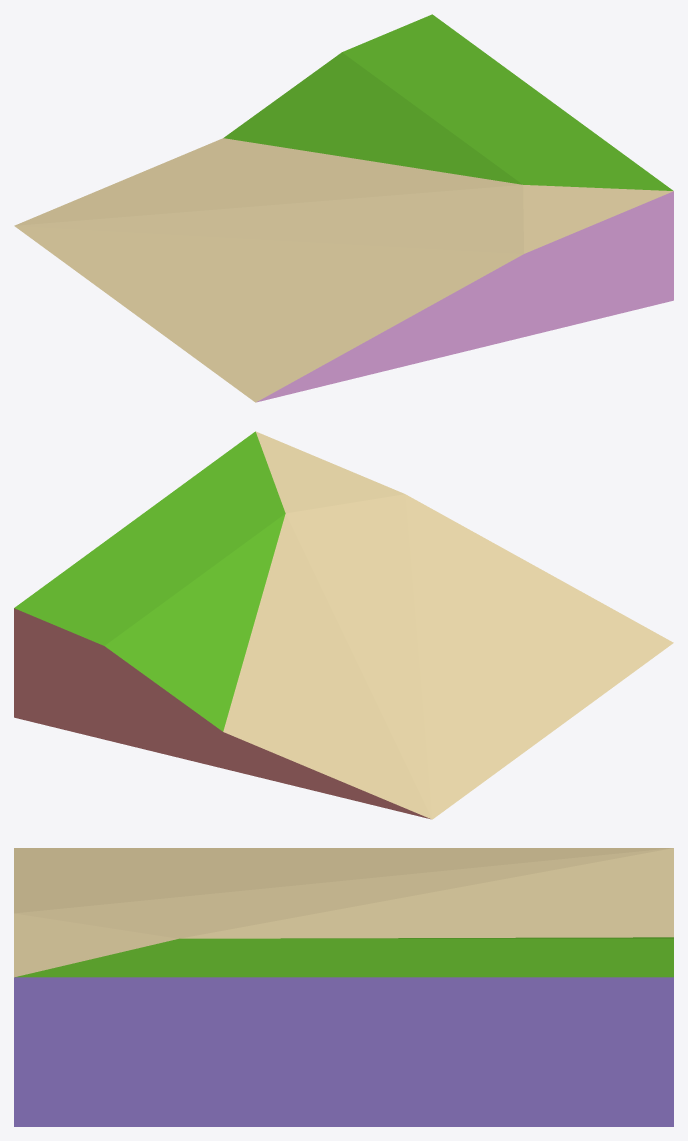
Rendered from Path_Terrain_Transition_Grass_Side_Straight_1x1.glb.
The picture shows the model from 3 angles, top to bottom: view 1: azimuth 30°, elevation 25°; view 2: azimuth 150°, elevation 25°; view 3: azimuth 270°, elevation 25°; orthographic projection. The views are drawn at different scales.
Visible parts, largest first — view 1: Path_Terrain_Transition_Grass_Side_Straight_1x1; view 2: Path_Terrain_Transition_Grass_Side_Straight_1x1; view 3: Path_Terrain_Transition_Grass_Side_Straight_1x1.
Boxes of the visible parts, x1,y1,x2,y2 form: Path_Terrain_Transition_Grass_Side_Straight_1x1: (14, 14, 673, 402); Path_Terrain_Transition_Grass_Side_Straight_1x1: (14, 431, 673, 819); Path_Terrain_Transition_Grass_Side_Straight_1x1: (14, 848, 673, 1126).
Size of the model in its own units: 100 by 25 by 100.
